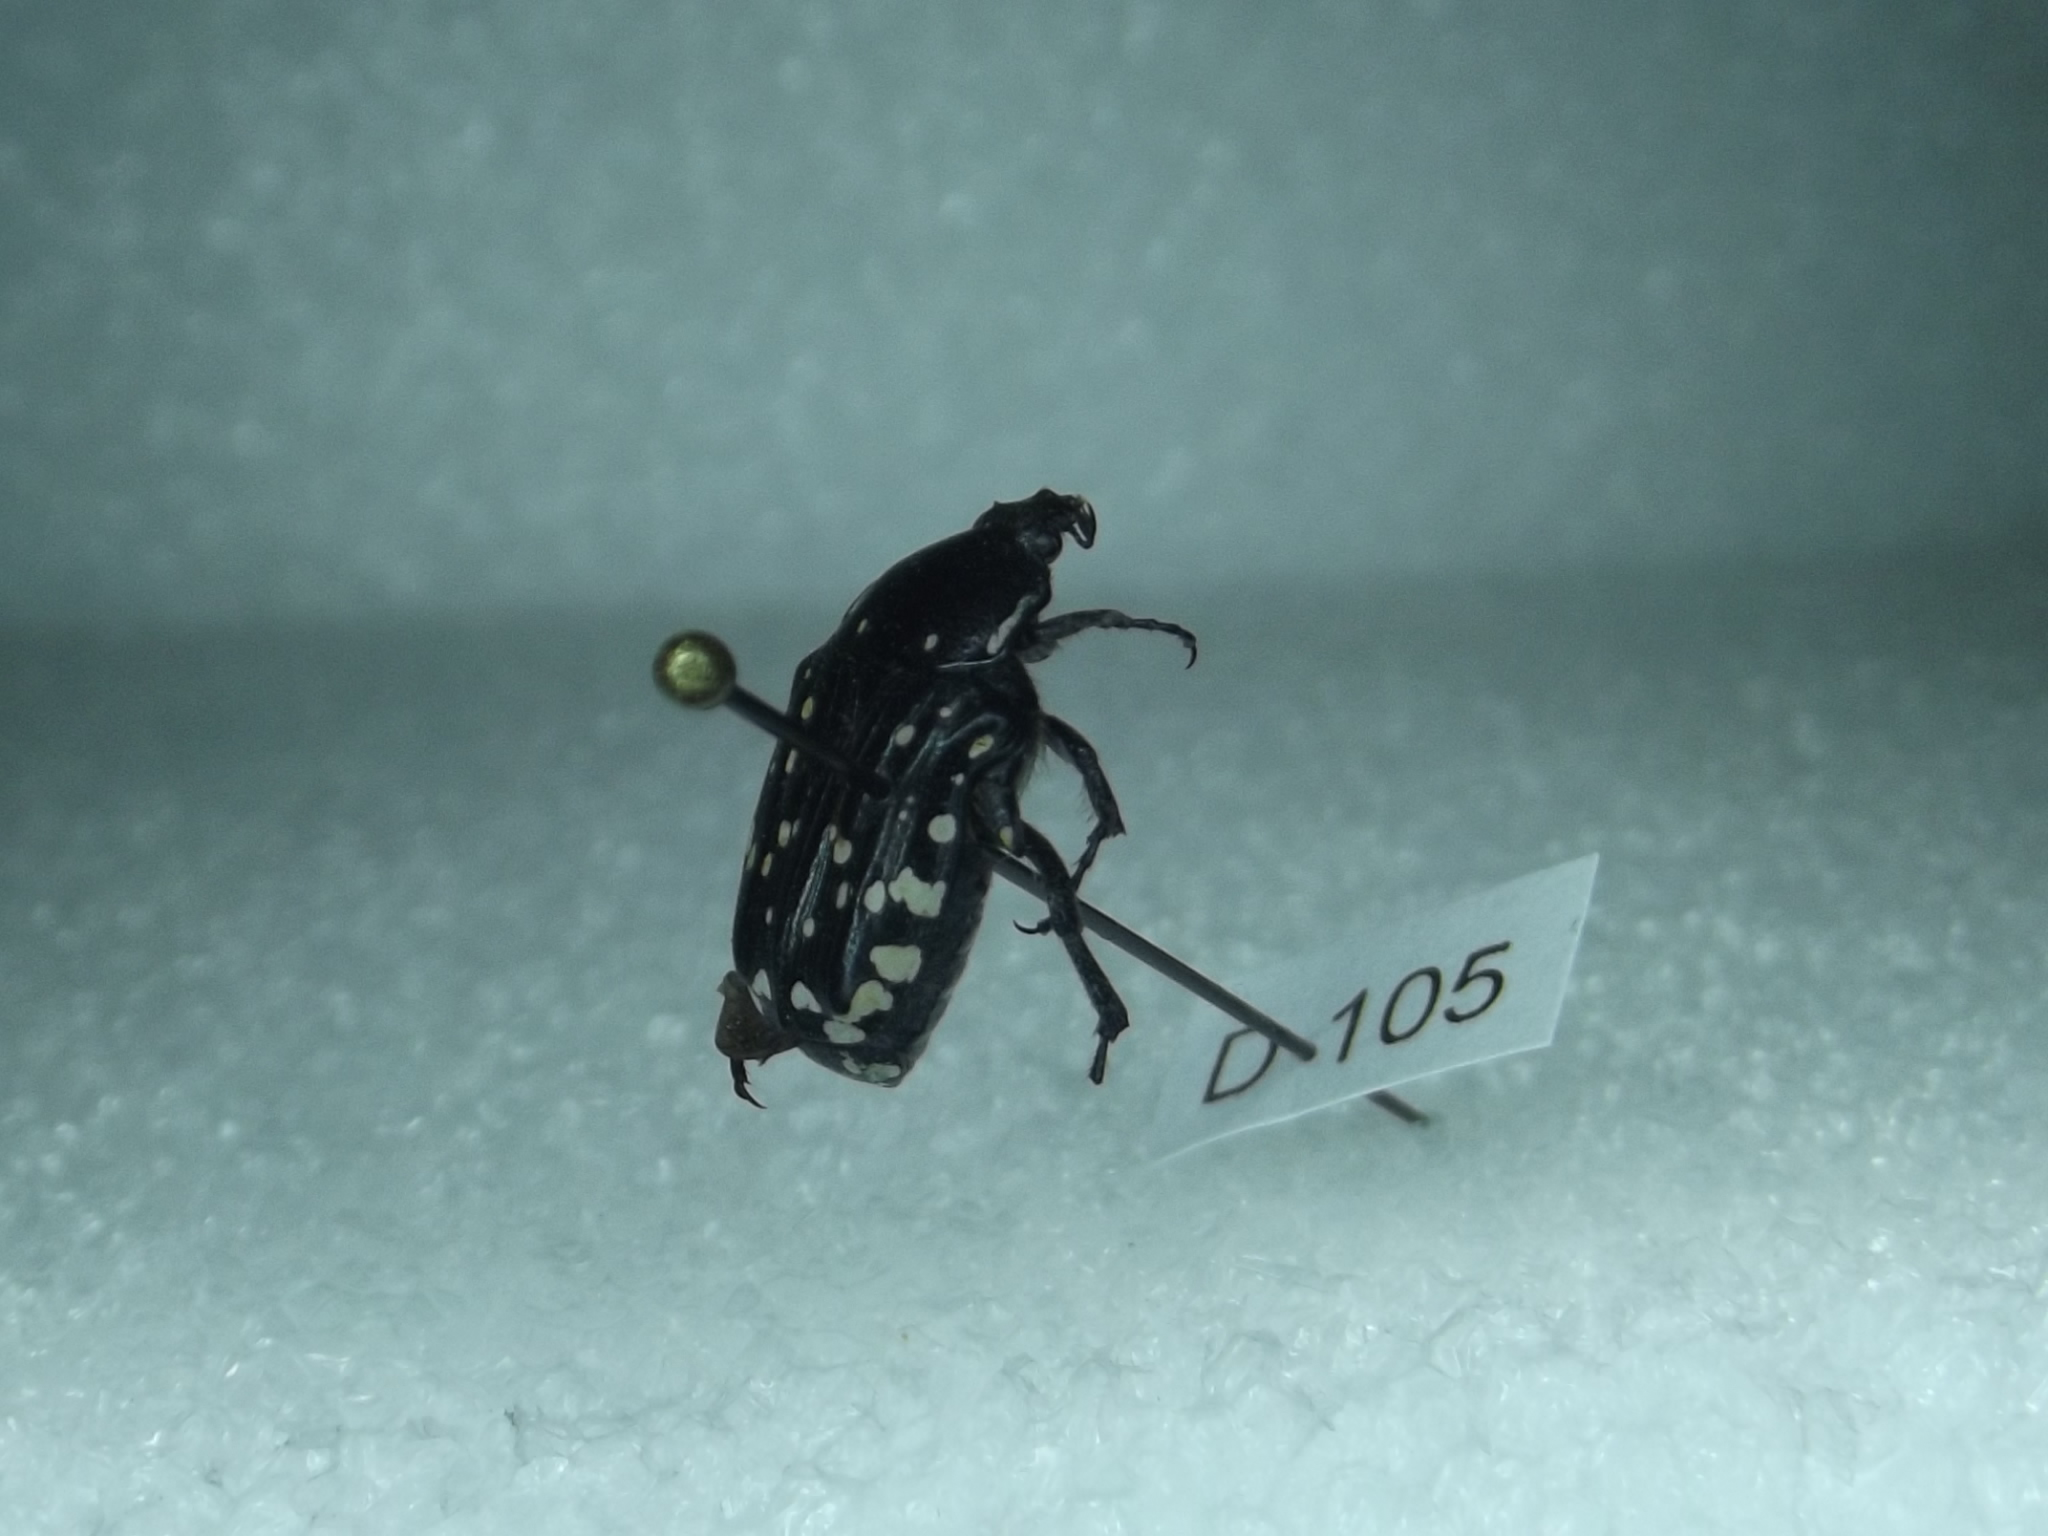Oxythyrea_cinctella: (703, 478, 1214, 1121)
